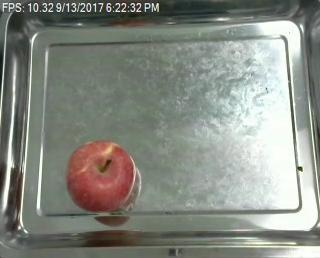apple: (66, 140, 134, 210)
